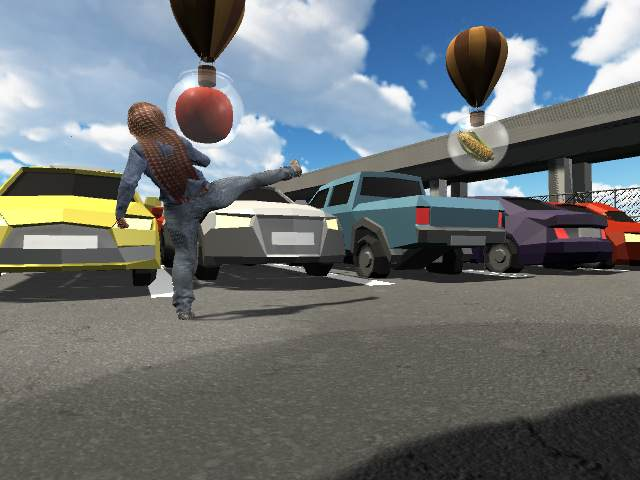turn_right: (116, 100, 302, 324)
